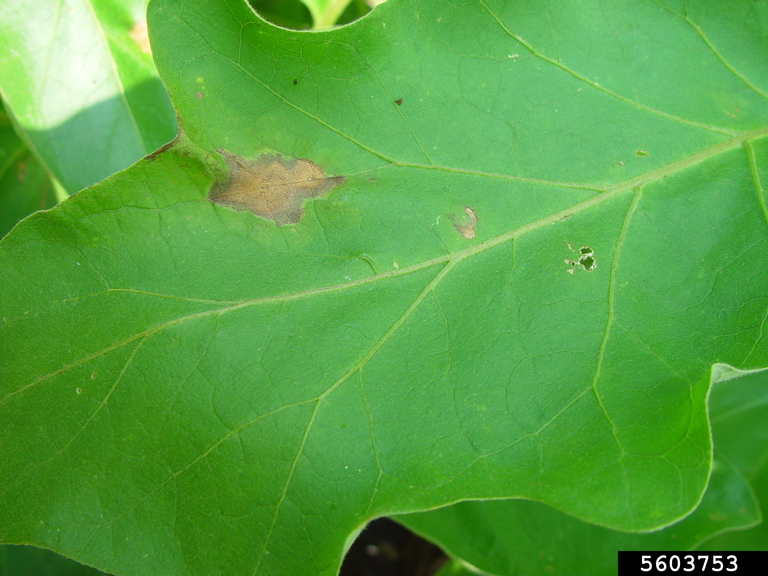Eggplant_PhytophthoraBlight: (148, 97, 667, 404)
